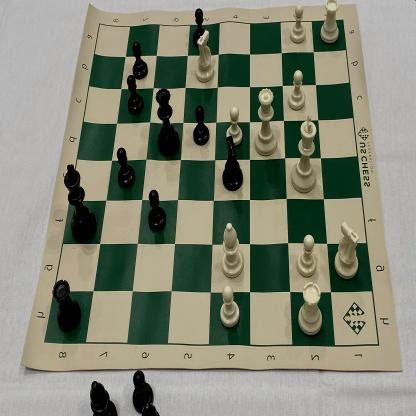black-king: (62, 160, 96, 245)
black-knight: (218, 135, 246, 193)
black-pawn: (144, 186, 169, 235), (190, 100, 212, 148), (125, 70, 146, 116), (115, 146, 136, 190), (130, 37, 150, 82), (190, 5, 209, 50)
black-queen: (154, 85, 182, 158)
black-rook: (51, 276, 83, 334)
white-bishop: (220, 219, 247, 280)
white-king: (289, 112, 321, 198)
white-knight: (332, 218, 364, 282), (192, 24, 219, 86)
white-pawn: (294, 232, 320, 280), (217, 283, 242, 331), (287, 66, 309, 114), (223, 104, 246, 146), (288, 3, 308, 43)
white-queen: (252, 82, 280, 160)
white-rook: (292, 280, 327, 340), (318, 0, 343, 46)
